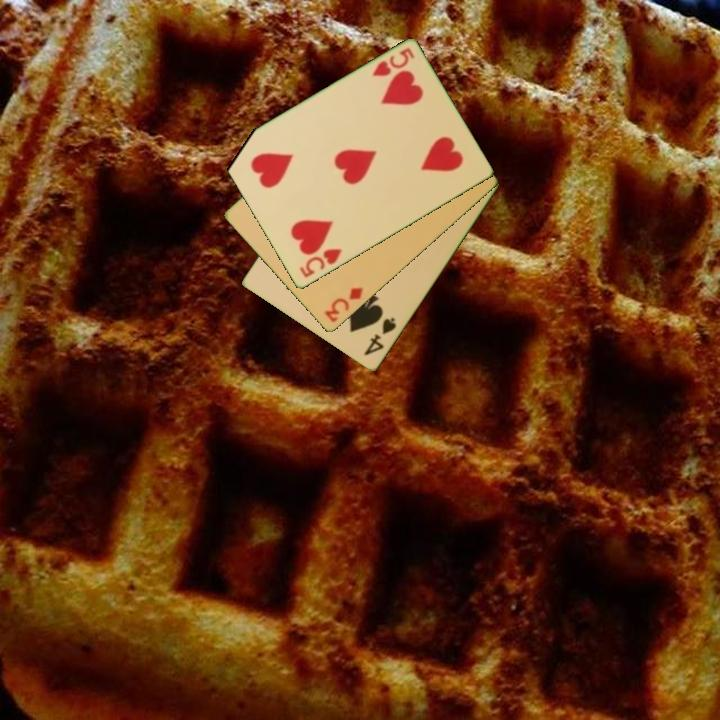3d: (321, 284, 366, 326)
4s: (361, 314, 399, 359)
5h: (296, 245, 345, 281), (369, 44, 417, 80)
